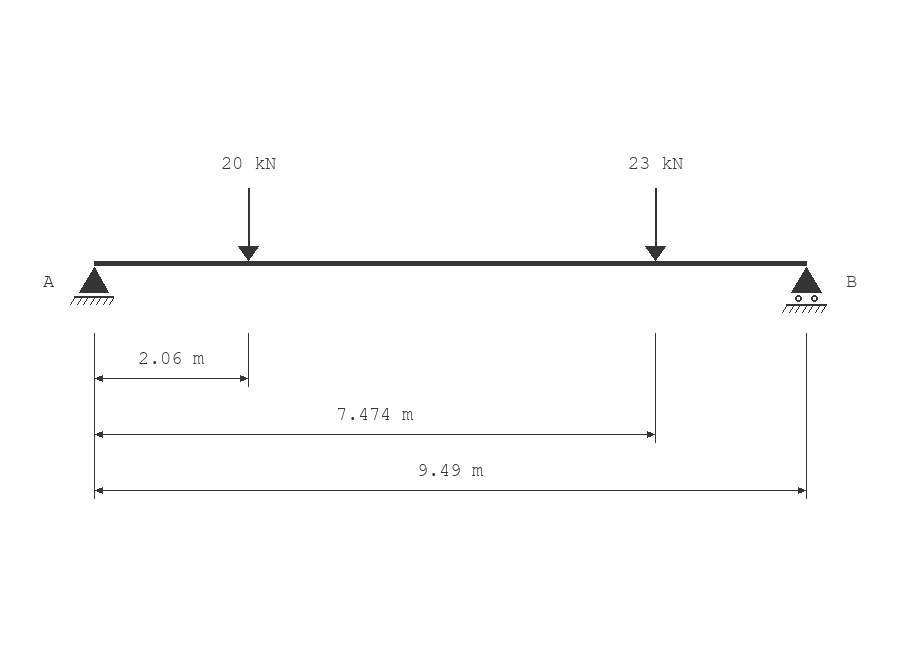pin_support: (70, 267, 114, 305)
point_load: (238, 188, 259, 261), (645, 188, 666, 261)
roller_support: (782, 267, 827, 313)
